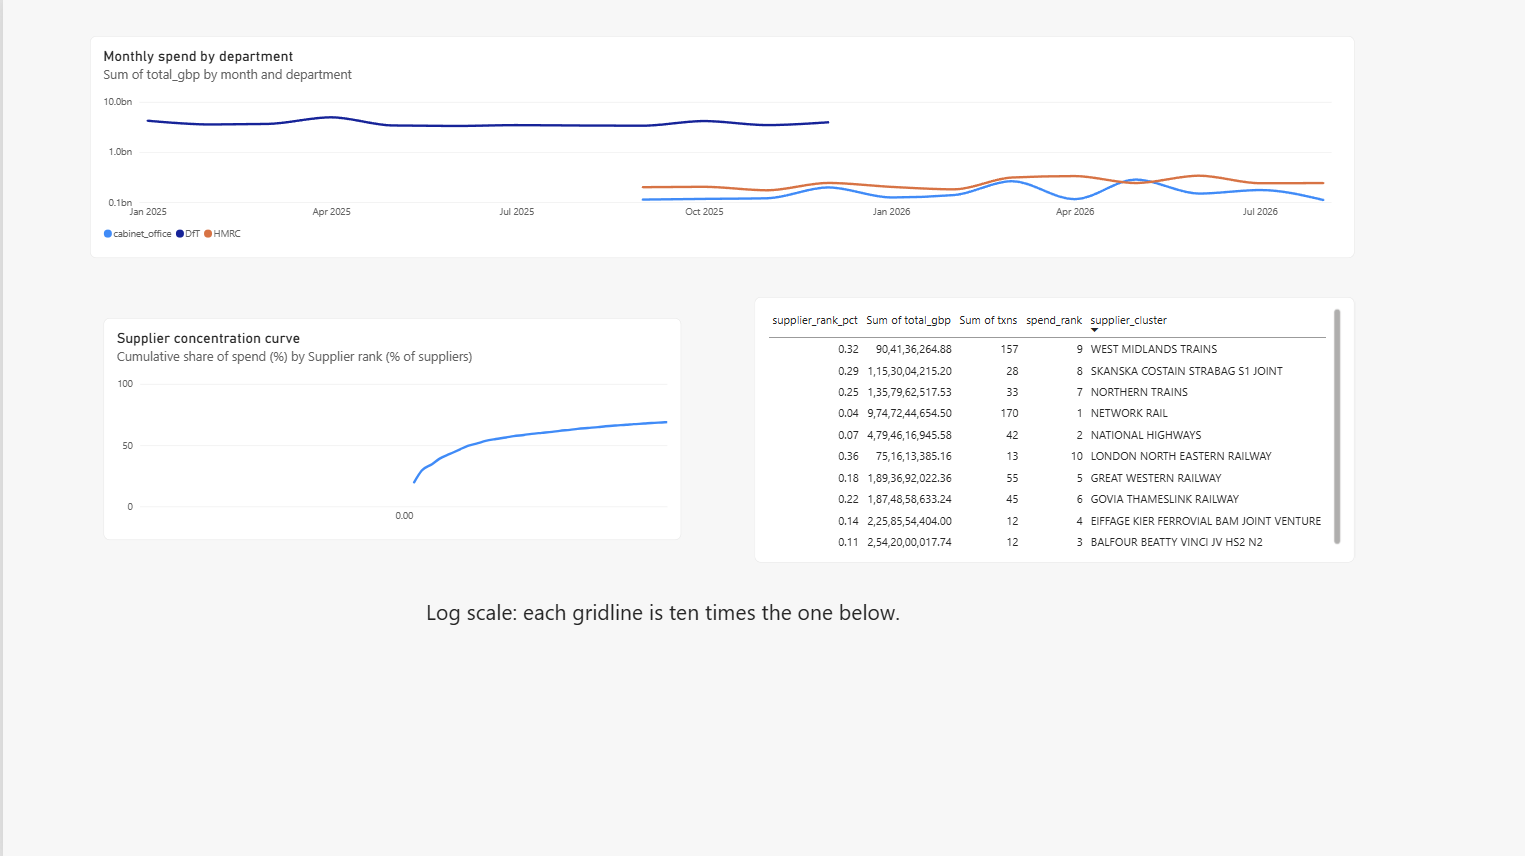

This screenshot's page, from the dashboard's own definition file:
{"tool":"powerbi","page":{"name":"Spend & concentration","canvas":[1920,1080],"ordinal":1},"visuals":[{"type":"lineChart","title":"Monthly spend by department","fields":{"Category":["monthly_spend.month"],"Series":["monthly_spend.department"],"Y":["Sum(monthly_spend.total_gbp)"]},"box":[109.4,45.3,1590.6,279.2],"z":0},{"type":"tableEx","fields":{"Values":["supplier_concentration.supplier_rank_pct","Sum(supplier_concentration.total_gbp)","Sum(supplier_concentration.txns)","supplier_concentration.spend_rank","supplier_concentration.supplier_cluster"]},"box":[945.3,373.6,754.7,334],"z":1000},{"type":"lineChart","title":"Supplier concentration curve","fields":{"Category":["supplier_concentration.supplier_rank_pct"],"Y":["Avg(supplier_concentration.cum_share_pct)"]},"box":[126.4,400,726.4,279.2],"z":2000},{"type":"textbox","box":[532.1,750.9,600,37.7],"z":3000}]}

Visuals, with their boxes in screenshot pixels (x1, y1, x2, y2), scaled from the page's 1920x1080 canvas onto the 1525x856 screenshot:
"Monthly spend by department" lineChart: 87,36,1350,257
tableEx - supplier_concentration.supplier_rank_pct x Sum(supplier_concentration.total_gbp): 751,296,1350,561
"Supplier concentration curve" lineChart: 100,317,677,538
textbox: 423,595,899,625
